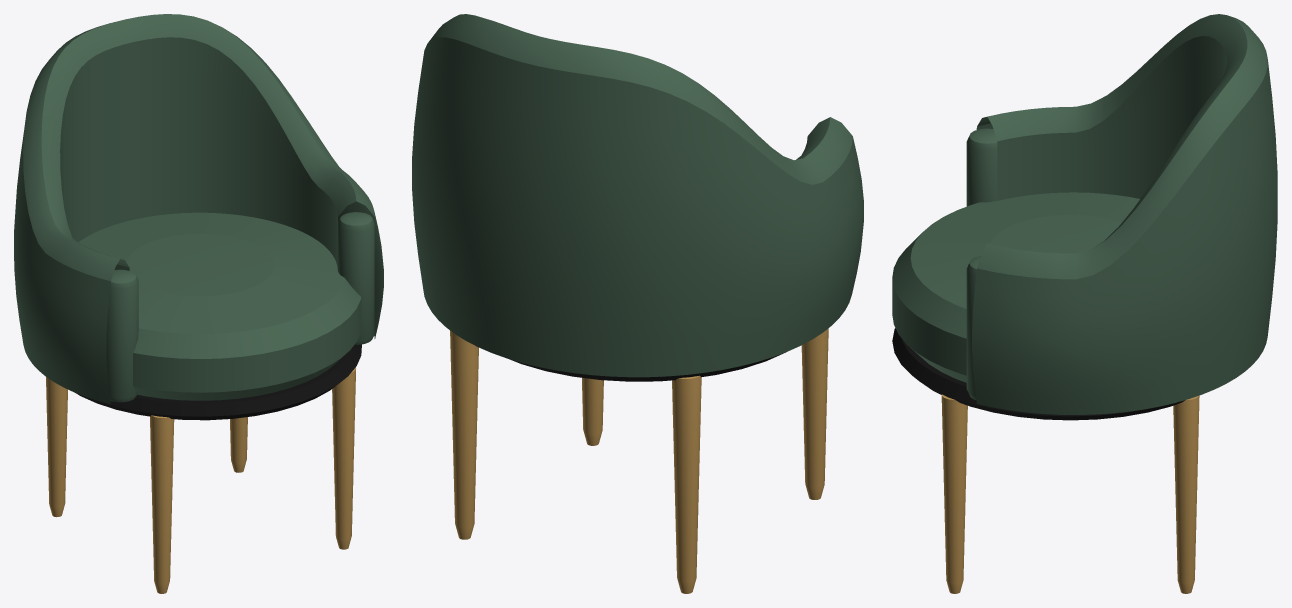
The model's file is tub_sage.glb.
The picture shows the model from 3 angles, left to right: view 1: azimuth 30°, elevation 25°; view 2: azimuth 150°, elevation 25°; view 3: azimuth 270°, elevation 25°; orthographic projection. The views are drawn at different scales.
Parts seen in each view (by area): view 1: tub_sage; view 2: tub_sage; view 3: tub_sage.
Part boxes in pixels (x1=…): tub_sage: x1=14, y1=14, x2=383, y2=593; tub_sage: x1=412, y1=14, x2=863, y2=593; tub_sage: x1=892, y1=14, x2=1277, y2=593.
Size of the model in its own units: 0.5992 by 0.808 by 0.5663.
